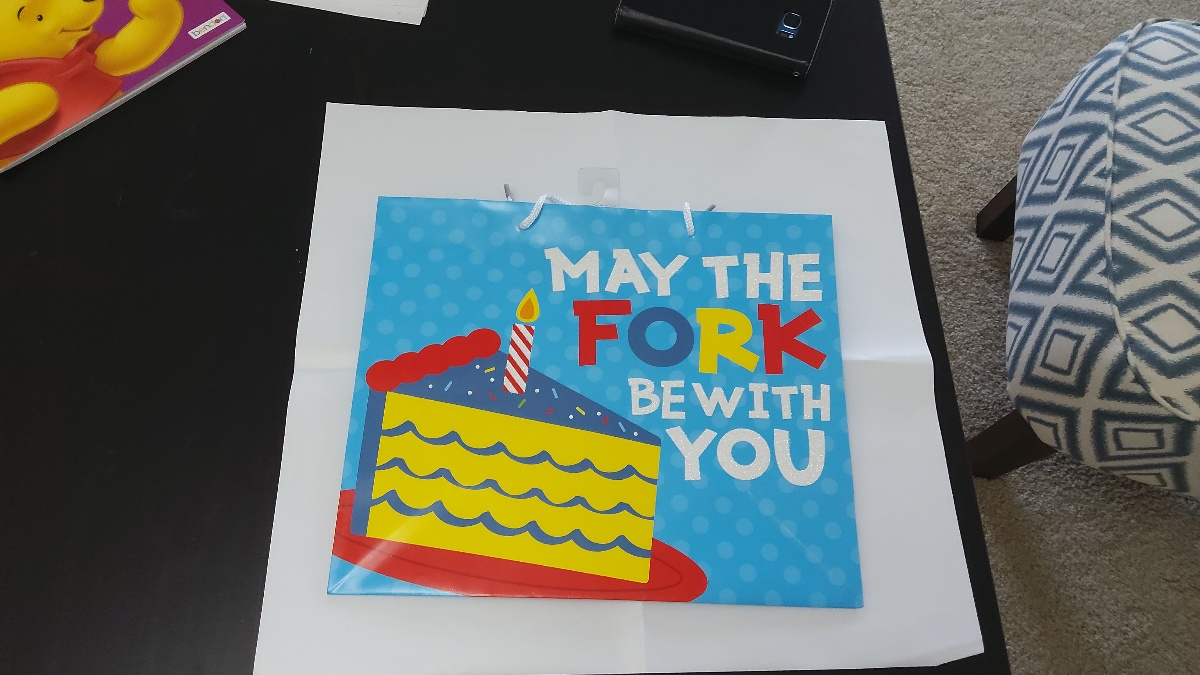paper_bag: (376, 196, 842, 599)
